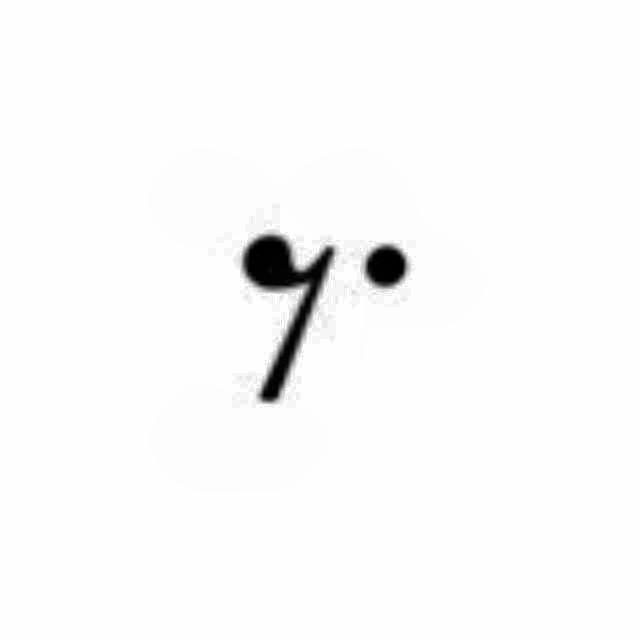Eighth-rest: (220, 226, 422, 414)
